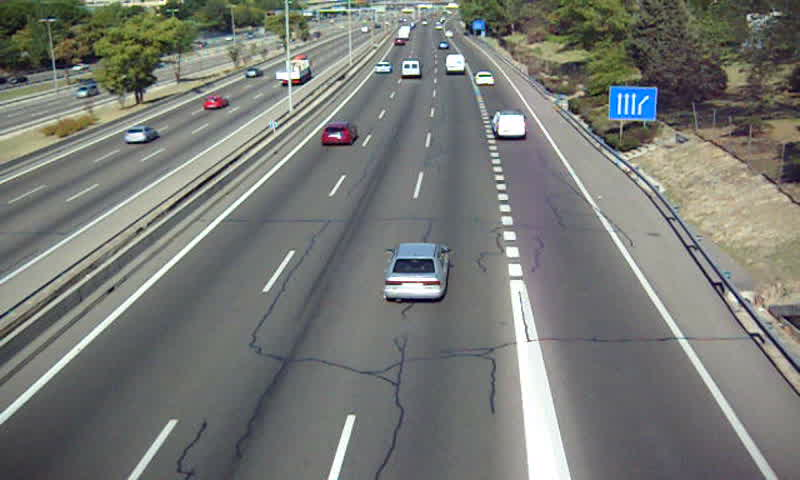car: (382, 243, 453, 302), (321, 123, 356, 145), (474, 69, 495, 85), (373, 60, 391, 73)
van: (492, 110, 526, 139), (445, 54, 466, 74), (401, 58, 421, 77)
